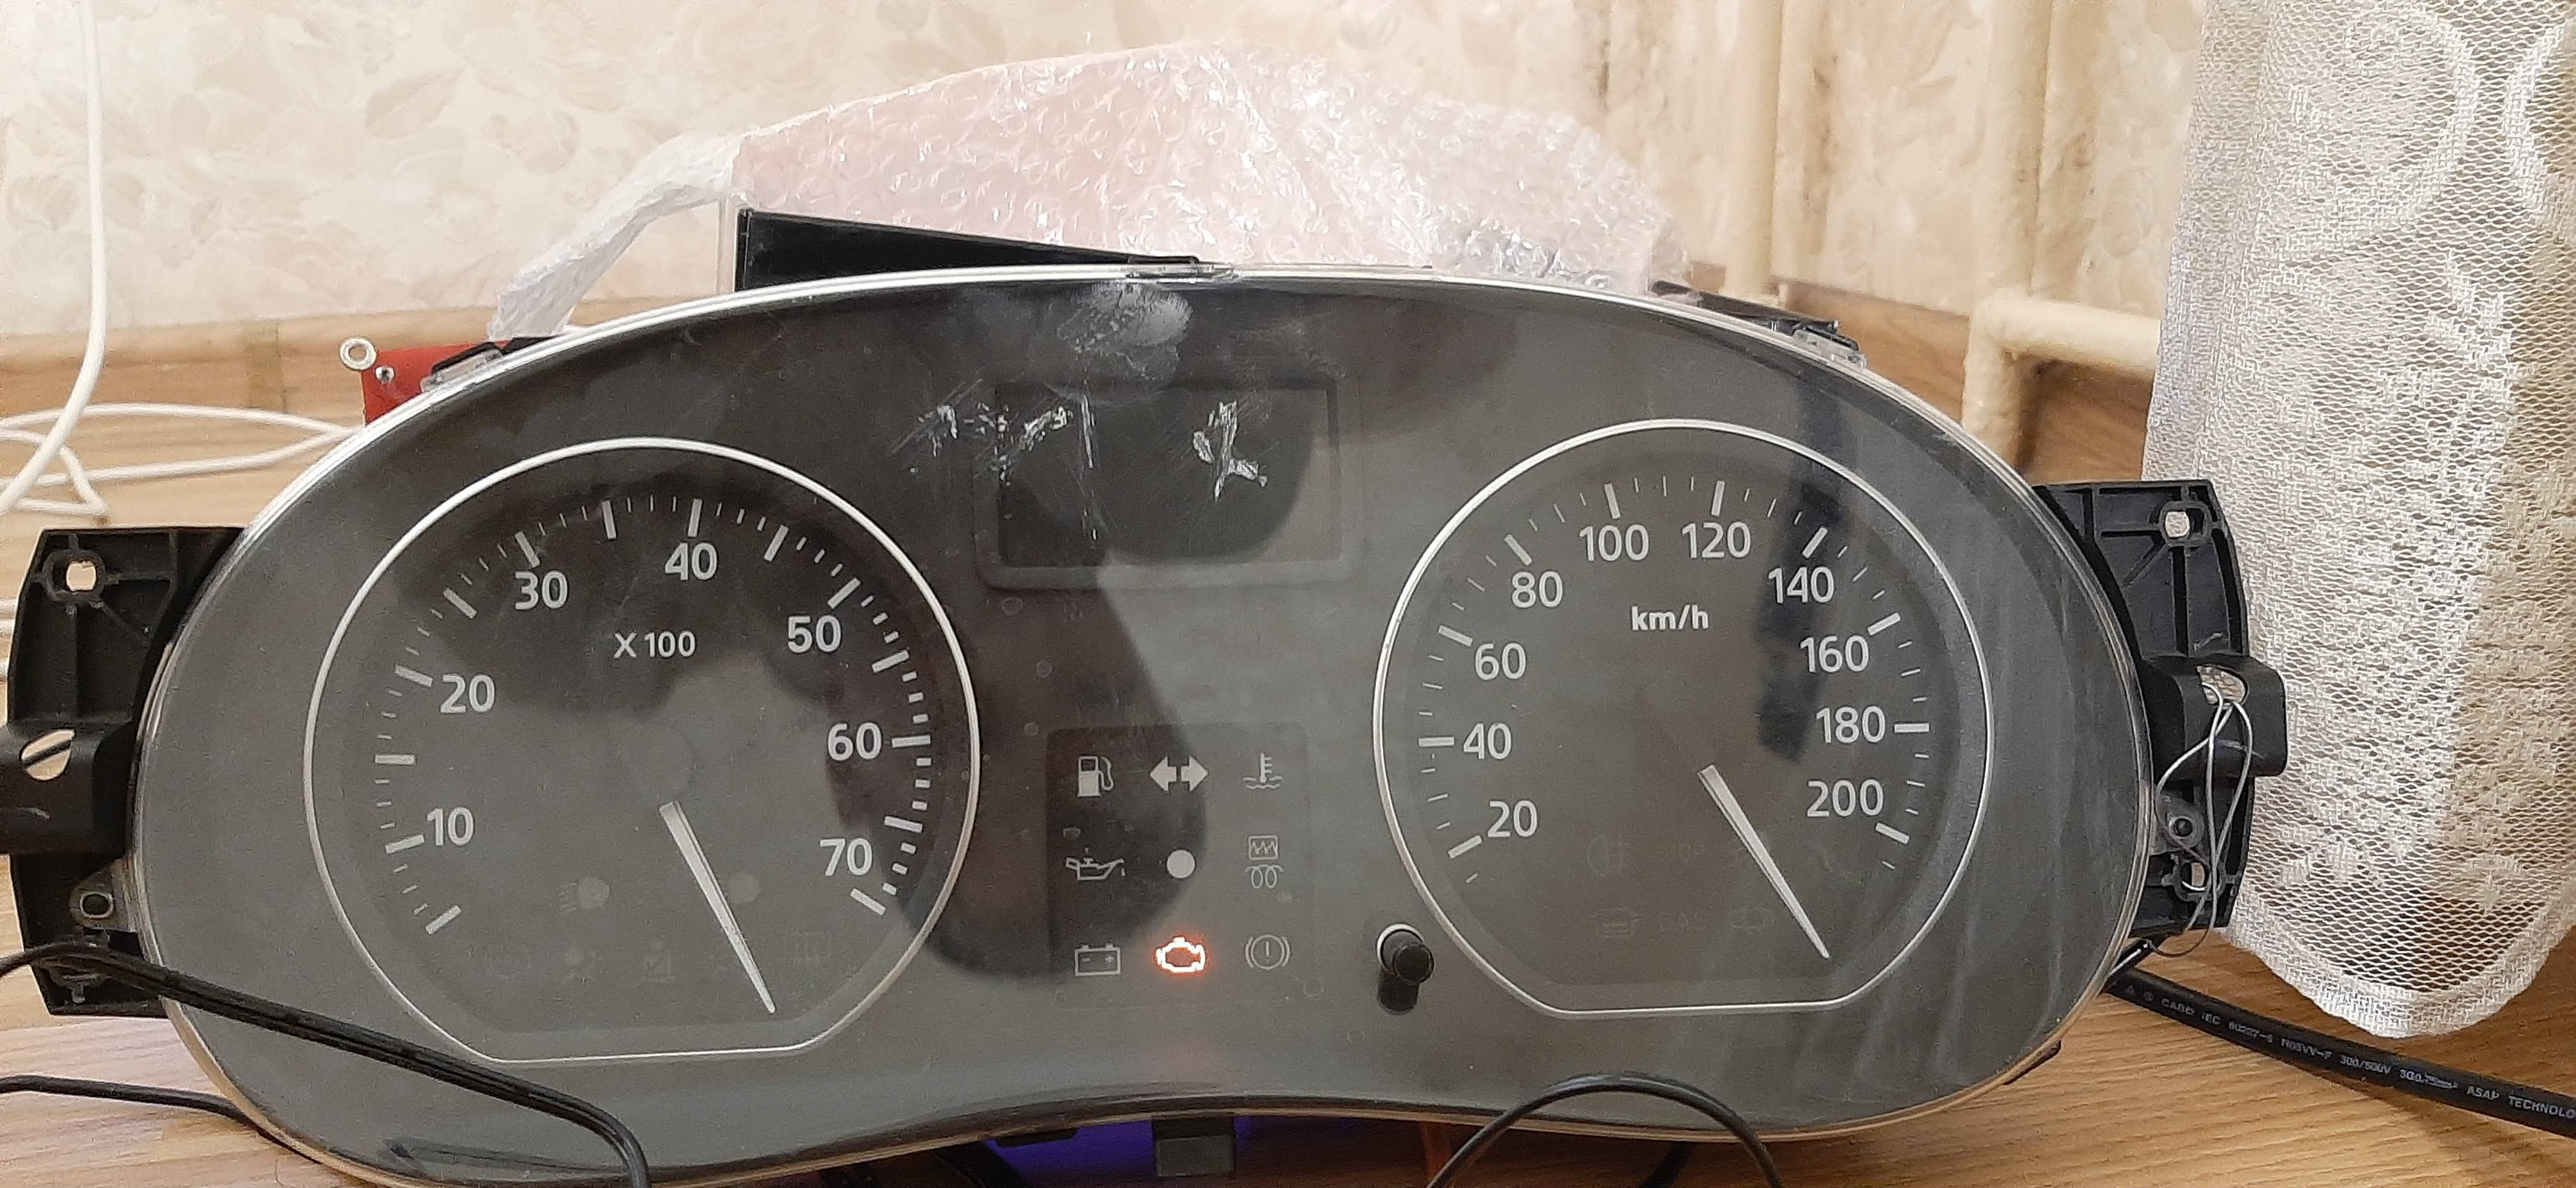engine6: (1153, 935, 1209, 976)
